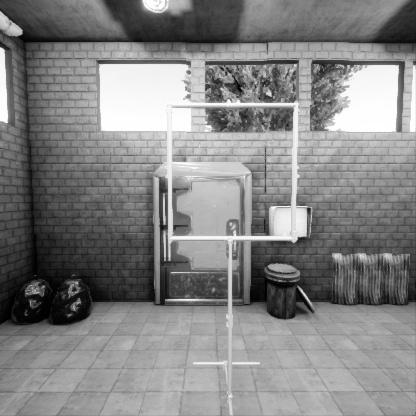gate: (165, 179, 307, 321)
